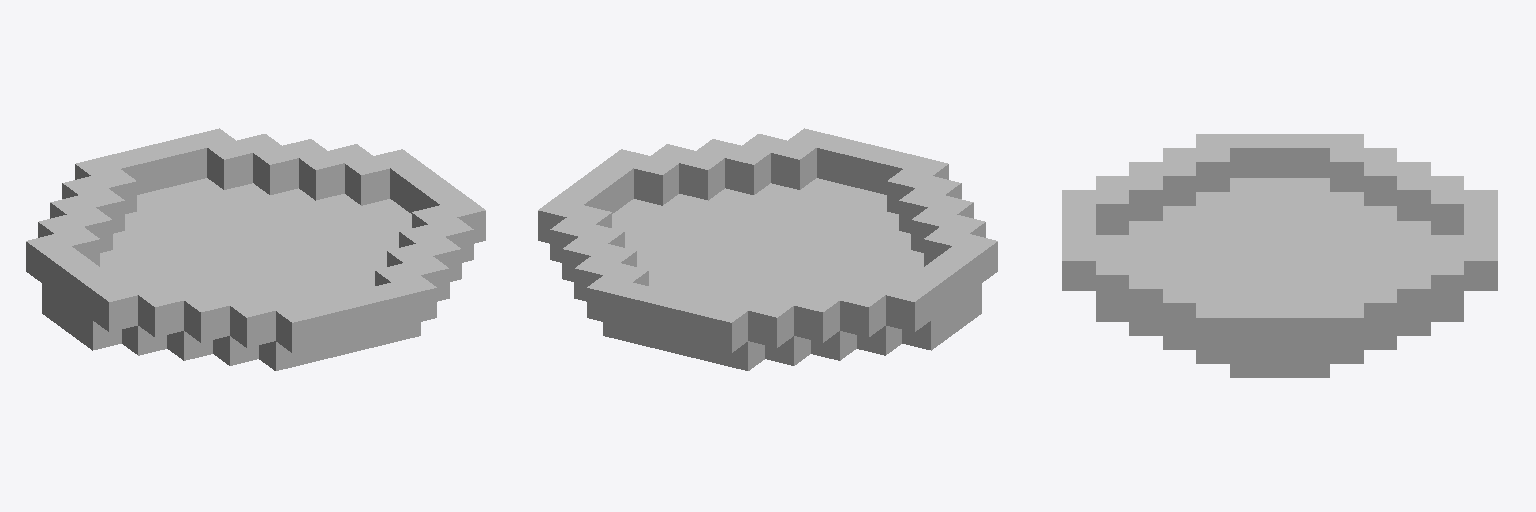
Rendered from KitchenOPEN_Export-2.obj.
The picture shows the model from 3 angles: view 1: azimuth 30°, elevation 25°; view 2: azimuth 150°, elevation 25°; view 3: azimuth 270°, elevation 25°; orthographic projection.
Parts seen in each view (by area): view 1: KitchenOPEN_Export-2; view 2: KitchenOPEN_Export-2; view 3: KitchenOPEN_Export-2.
Boxes of the visible parts, x1,y1,x2,y2 form: KitchenOPEN_Export-2: [26, 128, 485, 370]; KitchenOPEN_Export-2: [538, 128, 997, 370]; KitchenOPEN_Export-2: [1062, 134, 1497, 377].
Size of the model in its own units: 13 by 2 by 13.